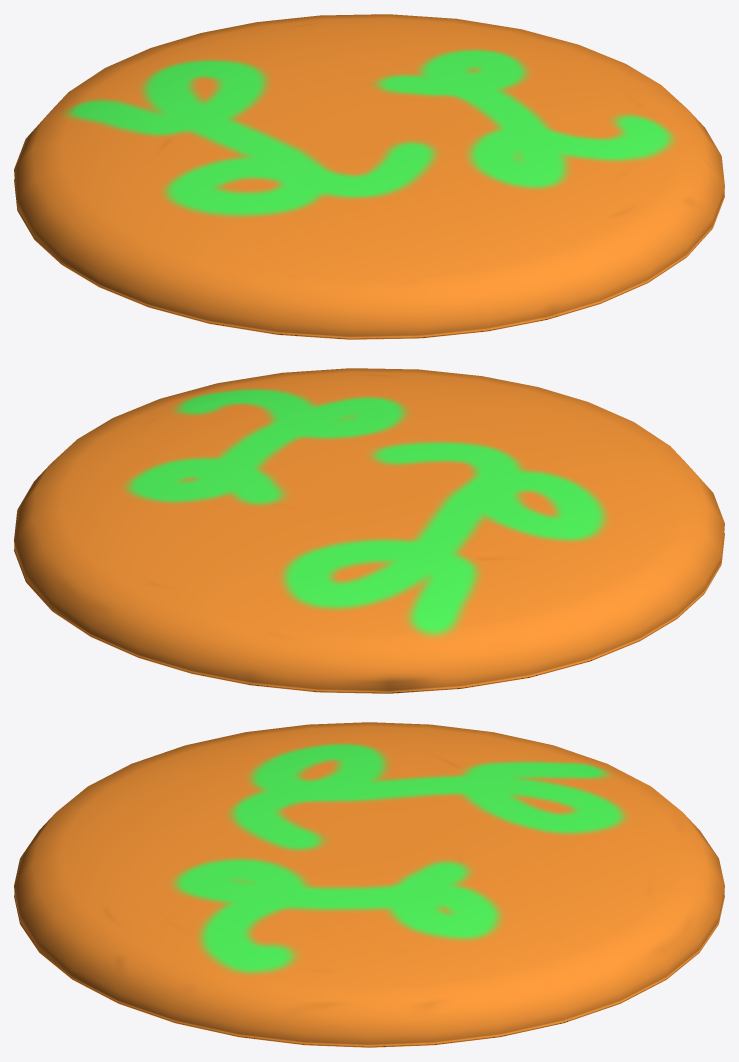
File: disc.glb
3 views of the same model, one above another, from view 1: azimuth 30°, elevation 25°; view 2: azimuth 150°, elevation 25°; view 3: azimuth 270°, elevation 25° (orthographic).
Parts seen in each view (by area): view 1: SurfSphere; view 2: SurfSphere; view 3: SurfSphere.
Boxes of the visible parts, x1,y1,x2,y2 form: SurfSphere: (14, 14, 724, 339); SurfSphere: (14, 368, 724, 693); SurfSphere: (14, 722, 724, 1047).
Bounding box in the file's own units: 0.2205 × 0.021 × 0.2205.
1 material, 1 textured.
